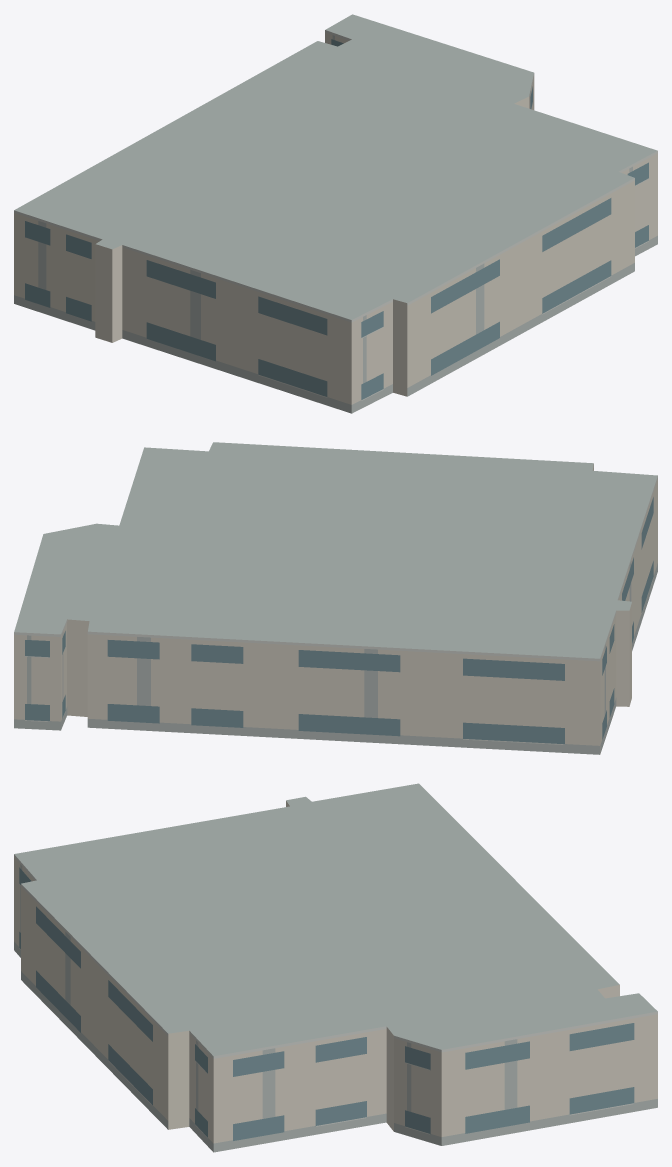
File: survey-upis-32521238.glb
The picture shows the model from 3 angles, top to bottom: view 1: azimuth 30°, elevation 25°; view 2: azimuth 150°, elevation 25°; view 3: azimuth 270°, elevation 25°; orthographic projection. The views are drawn at different scales.
Parts seen in each view (by area): view 1: survey-upis-32521238.tmp; view 2: survey-upis-32521238.tmp; view 3: survey-upis-32521238.tmp.
Part boxes in pixels (bbox=[...]): survey-upis-32521238.tmp: bbox=[14, 14, 657, 413]; survey-upis-32521238.tmp: bbox=[14, 442, 657, 754]; survey-upis-32521238.tmp: bbox=[14, 783, 657, 1152].
Size of the model in its own units: 55.69 by 9.15 by 55.53.
